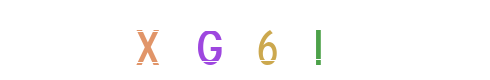6: (205, 0, 285, 80)
G: (169, 0, 249, 80)
I: (278, 0, 358, 80)
X: (162, 0, 242, 80)
